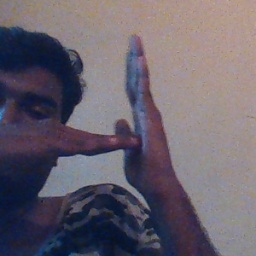Z: (77, 33, 177, 187)
